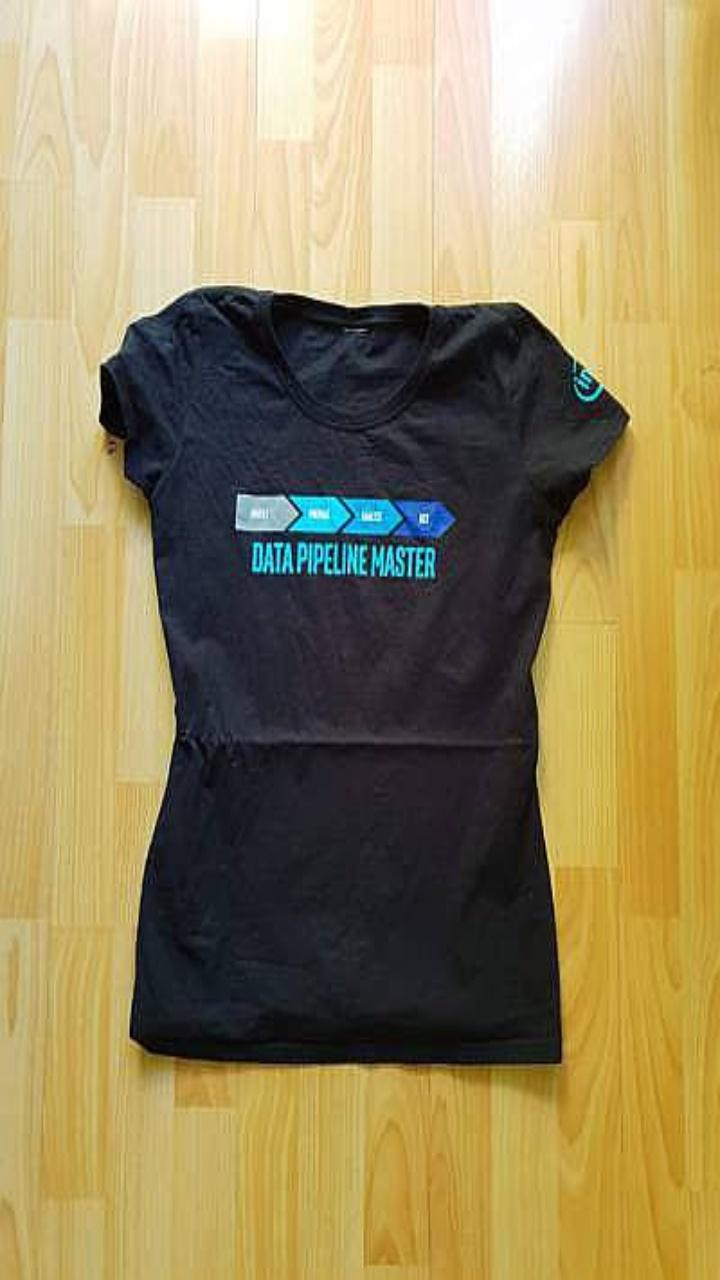T-Shirt: (99, 284, 628, 1063)
